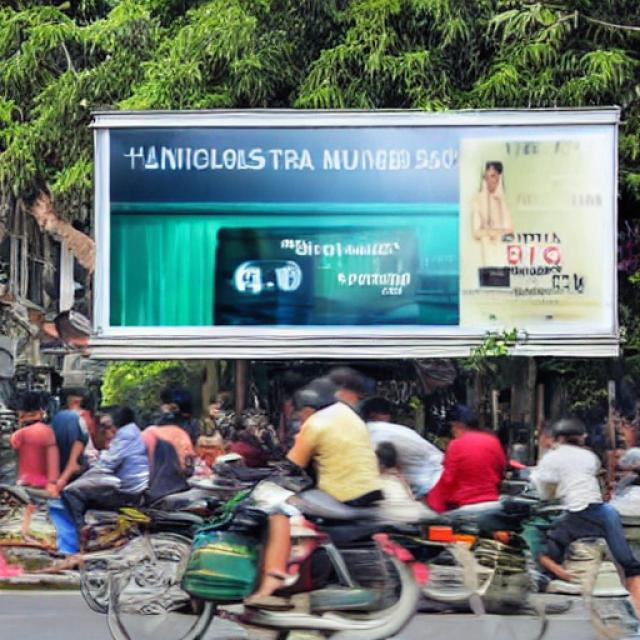Billboard: (88, 105, 626, 364)
